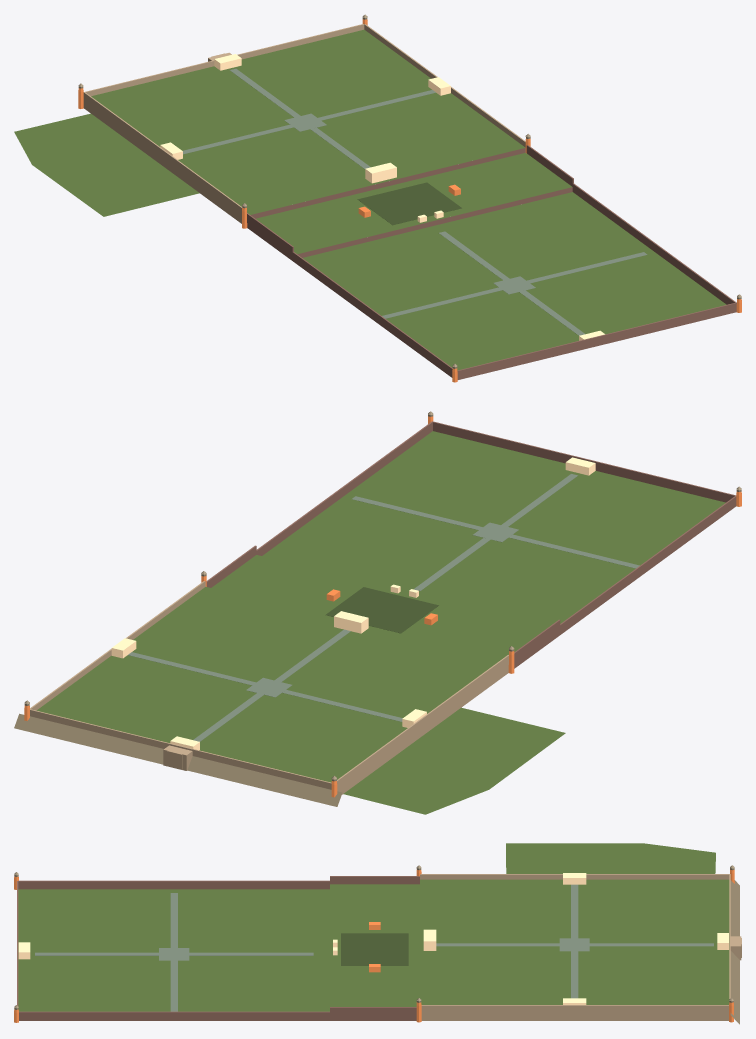
The model's file is shalimar_gardens_far.glb.
3 views of the same model, one above another, from view 1: azimuth 30°, elevation 25°; view 2: azimuth 150°, elevation 25°; view 3: azimuth 270°, elevation 25° (orthographic). The views are drawn at different scales.
Parts seen in each view (by area): view 1: m_lawn, m_wall_brick, m_wall_plaster, m_water_canal, m_water_green, m_lime_plaster, m_red_sandstone; view 2: m_lawn, m_wall_brick, m_wall_plaster, m_water_canal, m_kacha_bank, m_water_green, m_lime_plaster, m_red_sandstone; view 3: m_lawn, m_wall_brick, m_wall_plaster, m_water_canal, m_water_green, m_lime_plaster, m_kacha_bank, m_red_sandstone.
Boxes of the visible parts, x1,y1,x2,y2 form: m_lawn: [14, 29, 726, 370]; m_wall_brick: [247, 145, 736, 379]; m_wall_plaster: [83, 24, 525, 223]; m_water_canal: [183, 68, 647, 335]; m_water_green: [357, 182, 461, 225]; m_lime_plaster: [160, 54, 604, 340]; m_red_sandstone: [78, 19, 741, 382]; m_lawn: [37, 431, 725, 814]; m_wall_brick: [206, 421, 736, 668]; m_wall_plaster: [30, 581, 508, 794]; m_water_canal: [128, 474, 639, 741]; m_kacha_bank: [14, 713, 342, 806]; m_water_green: [326, 587, 438, 633]; m_lime_plaster: [111, 457, 595, 750]; m_red_sandstone: [24, 416, 741, 797]; m_lawn: [18, 843, 729, 1011]; m_wall_brick: [17, 876, 419, 1020]; m_wall_plaster: [420, 874, 741, 1020]; m_water_canal: [35, 884, 713, 1011]; m_water_green: [341, 933, 408, 965]; m_lime_plaster: [18, 873, 728, 1004]; m_kacha_bank: [730, 880, 739, 1024]; m_red_sandstone: [14, 869, 734, 1022].
Bounding box in the file's own units: 369 × 22.34 × 627.
